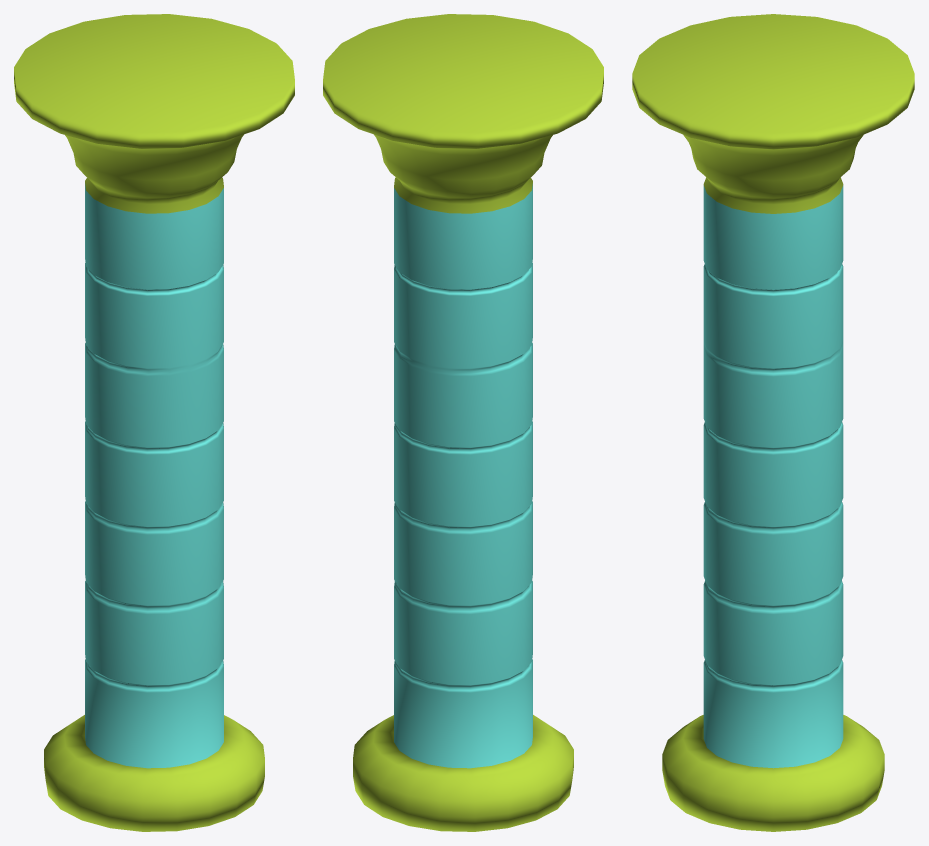
Rendered from Column.fbx.
The picture shows the model from 3 angles, left to right: view 1: azimuth 30°, elevation 25°; view 2: azimuth 150°, elevation 25°; view 3: azimuth 270°, elevation 25°; orthographic projection.
Visible parts, largest first — view 1: pCylinder1; view 2: pCylinder1; view 3: pCylinder1.
Part boxes in pixels (box(x1,y1,x2,y2)): pCylinder1: box(14, 14, 294, 831); pCylinder1: box(323, 14, 603, 831); pCylinder1: box(632, 14, 914, 831).
Bounding box in the file's own units: 16.16 × 45 × 16.16.
